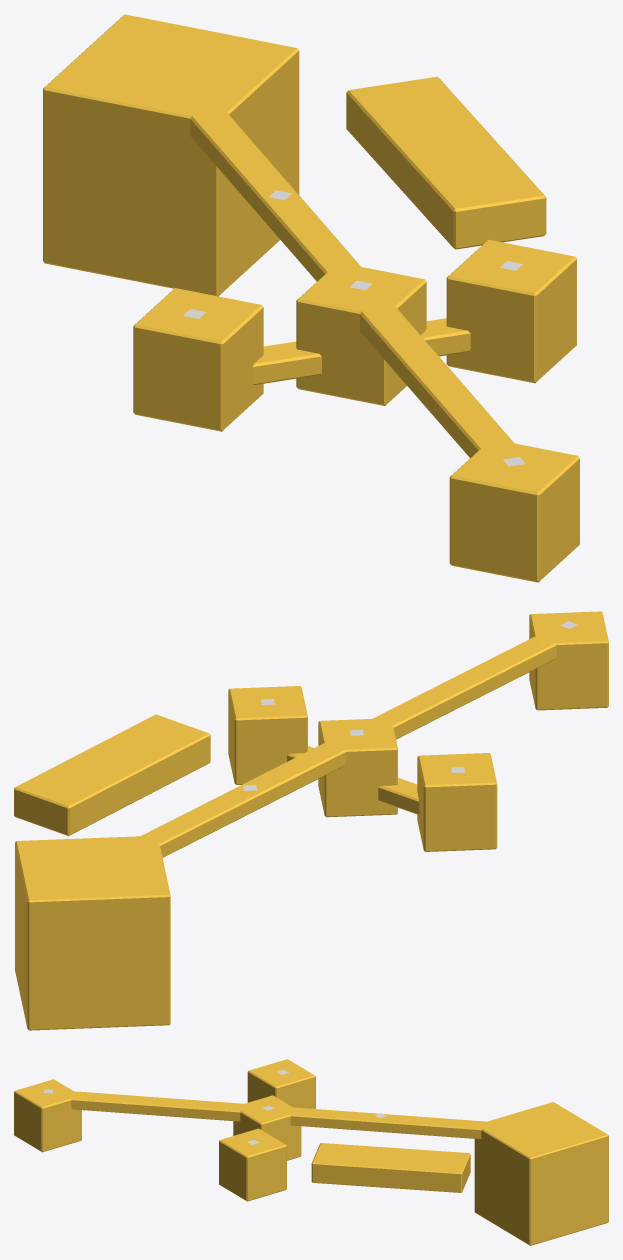
Rendered from level-05.glb.
3 renders of one model, top to bottom at view 1: azimuth 30°, elevation 25°; view 2: azimuth 150°, elevation 25°; view 3: azimuth 270°, elevation 25°, orthographic. The views are drawn at different scales.
Visible parts, largest first — view 1: Cube.003; view 2: Cube.003; view 3: Cube.003.
Boxes of the visible parts, x1,y1,x2,y2 form: Cube.003: (43, 14, 579, 582); Cube.003: (14, 611, 608, 1030); Cube.003: (14, 1059, 608, 1245).
Size of what is drawn, in the model's own units: 62.49 by 22.56 by 134.
